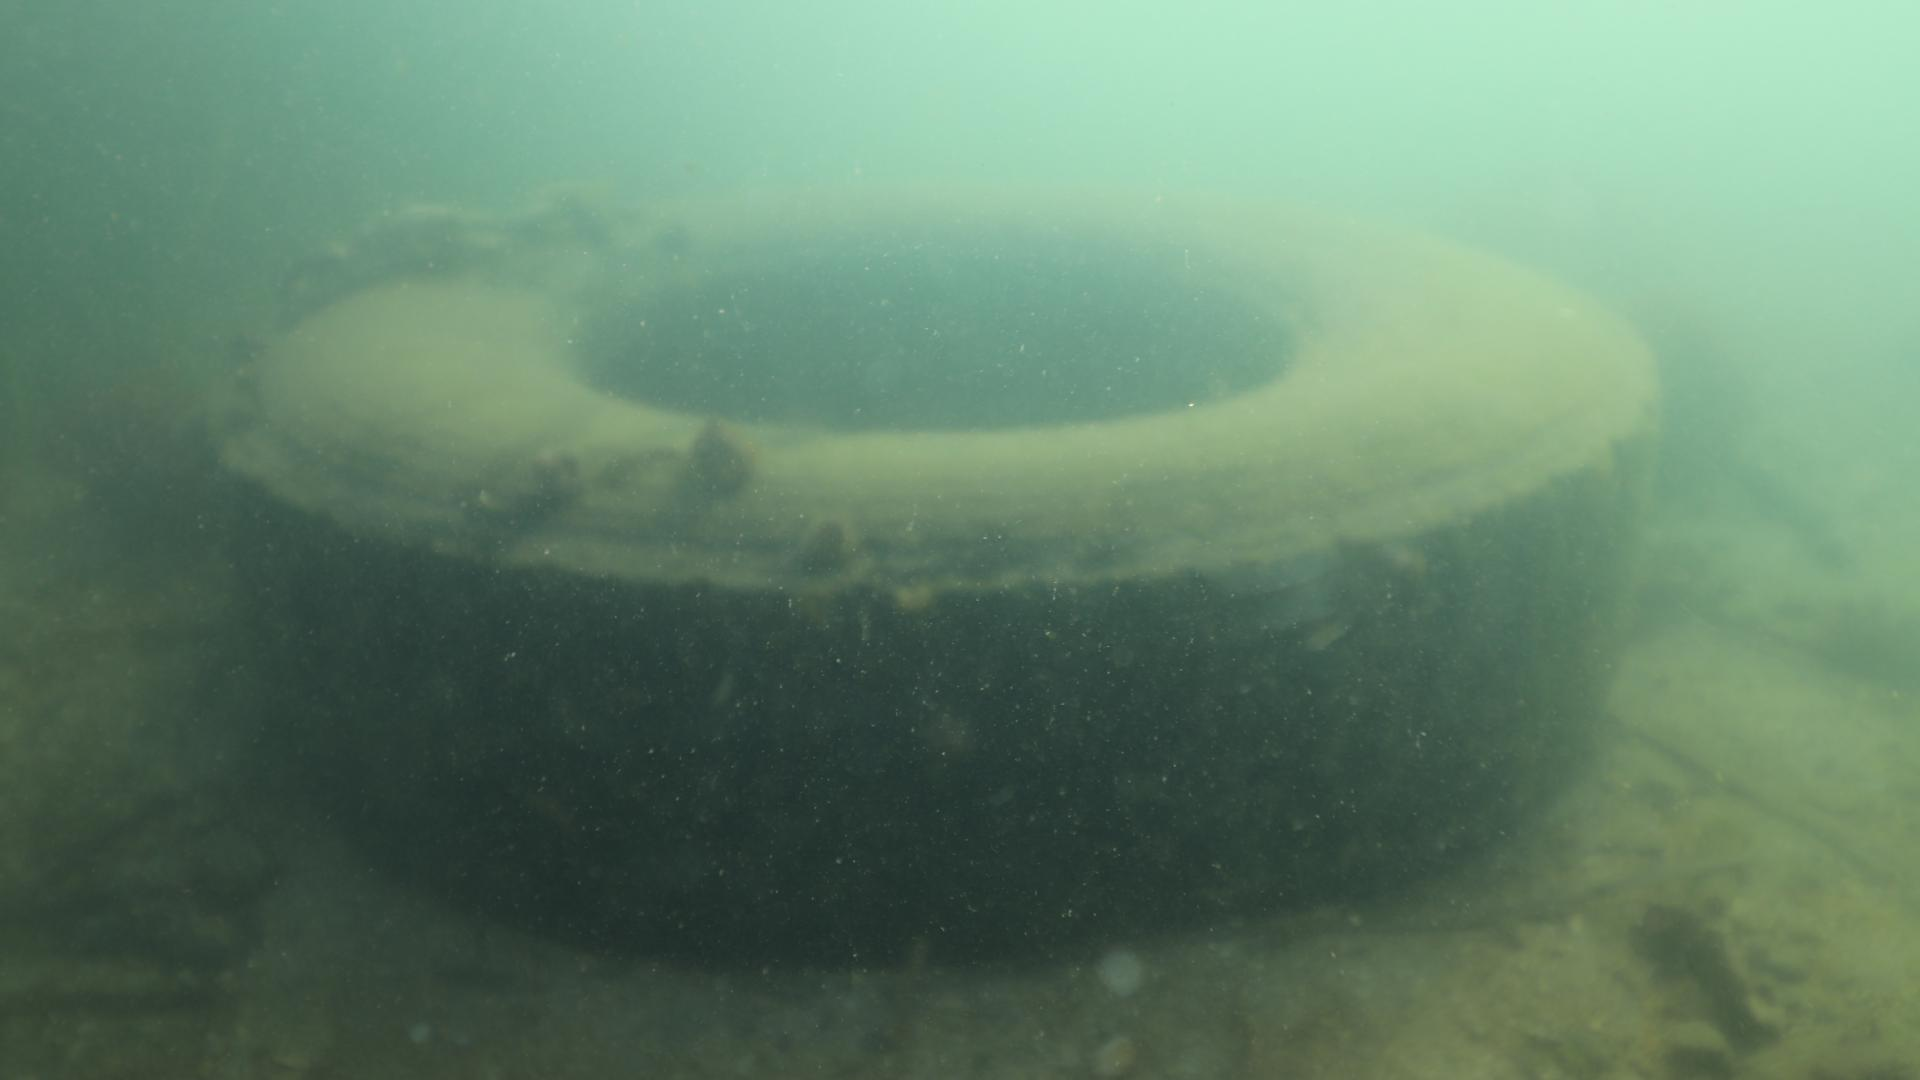tire: (211, 179, 1658, 975)
